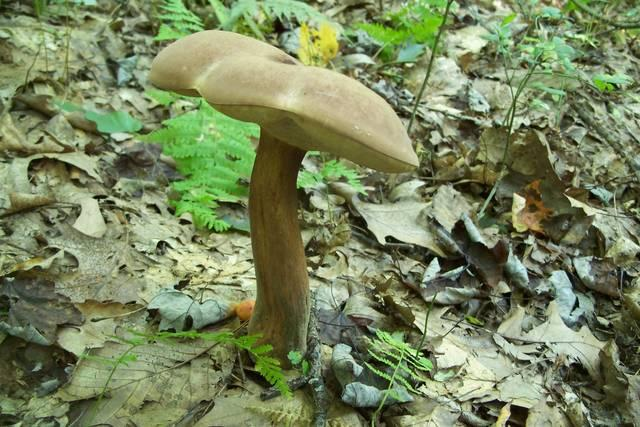poisonous_mushroom: (147, 27, 420, 371)
